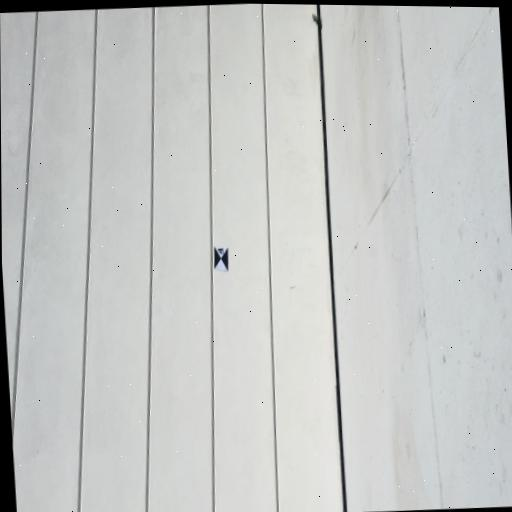target4: (214, 246, 229, 272)
